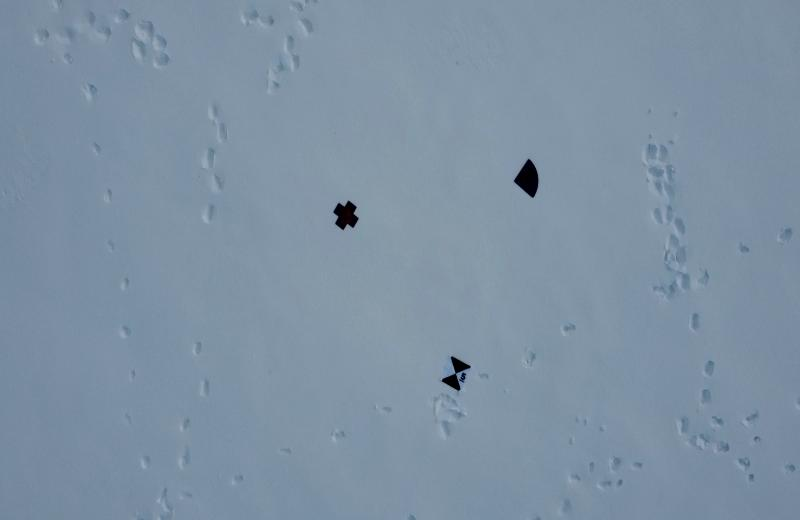Cross: (330, 198, 363, 233)
Quarter Circle: (512, 158, 539, 202)
